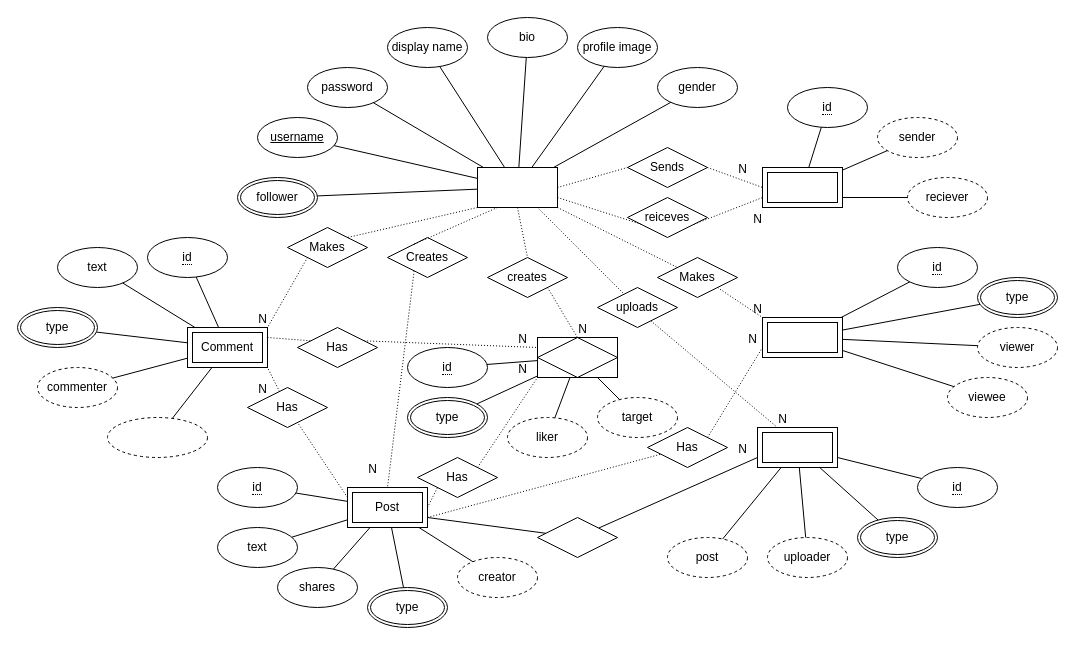
The diagram is 1075 pixels wide and 645 high, and some of its shapes have lost their labels. The shapes that lost their labels are listed below. From the top down, each one's centre as x and y in pixels, then its label:
point 517,187: User
point 802,187: Message
point 577,357: Like
point 802,337: View
point 157,437: target / parent
point 797,447: Upload
point 577,537: Contains
